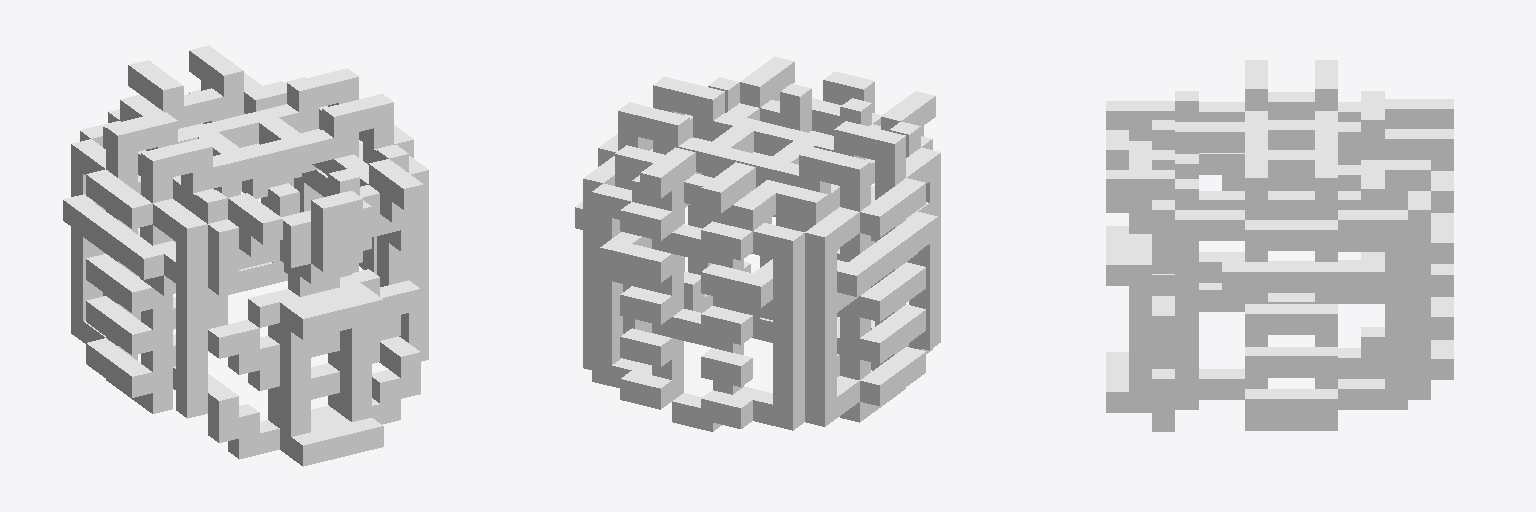
Rendered from DeathKnightHelm.obj.
3 views of the same model, side by side, from view 1: azimuth 30°, elevation 25°; view 2: azimuth 150°, elevation 25°; view 3: azimuth 270°, elevation 25° (orthographic).
Visible parts, largest first — view 1: object 1; view 2: object 1; view 3: object 1.
Part boxes in pixels (bbox=[...]): object 1: bbox=[63, 45, 428, 466]; object 1: bbox=[575, 57, 940, 431]; object 1: bbox=[1106, 60, 1453, 431].
Size of the model in its own units: 1.4 by 1.3 by 1.5.